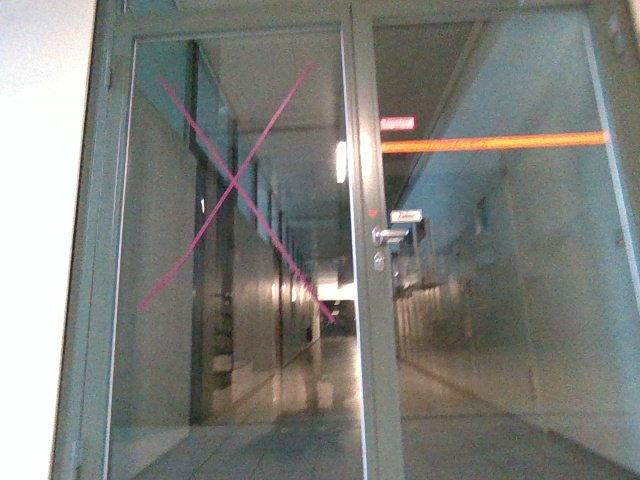door: (48, 2, 639, 480)
handle: (369, 225, 413, 248)
